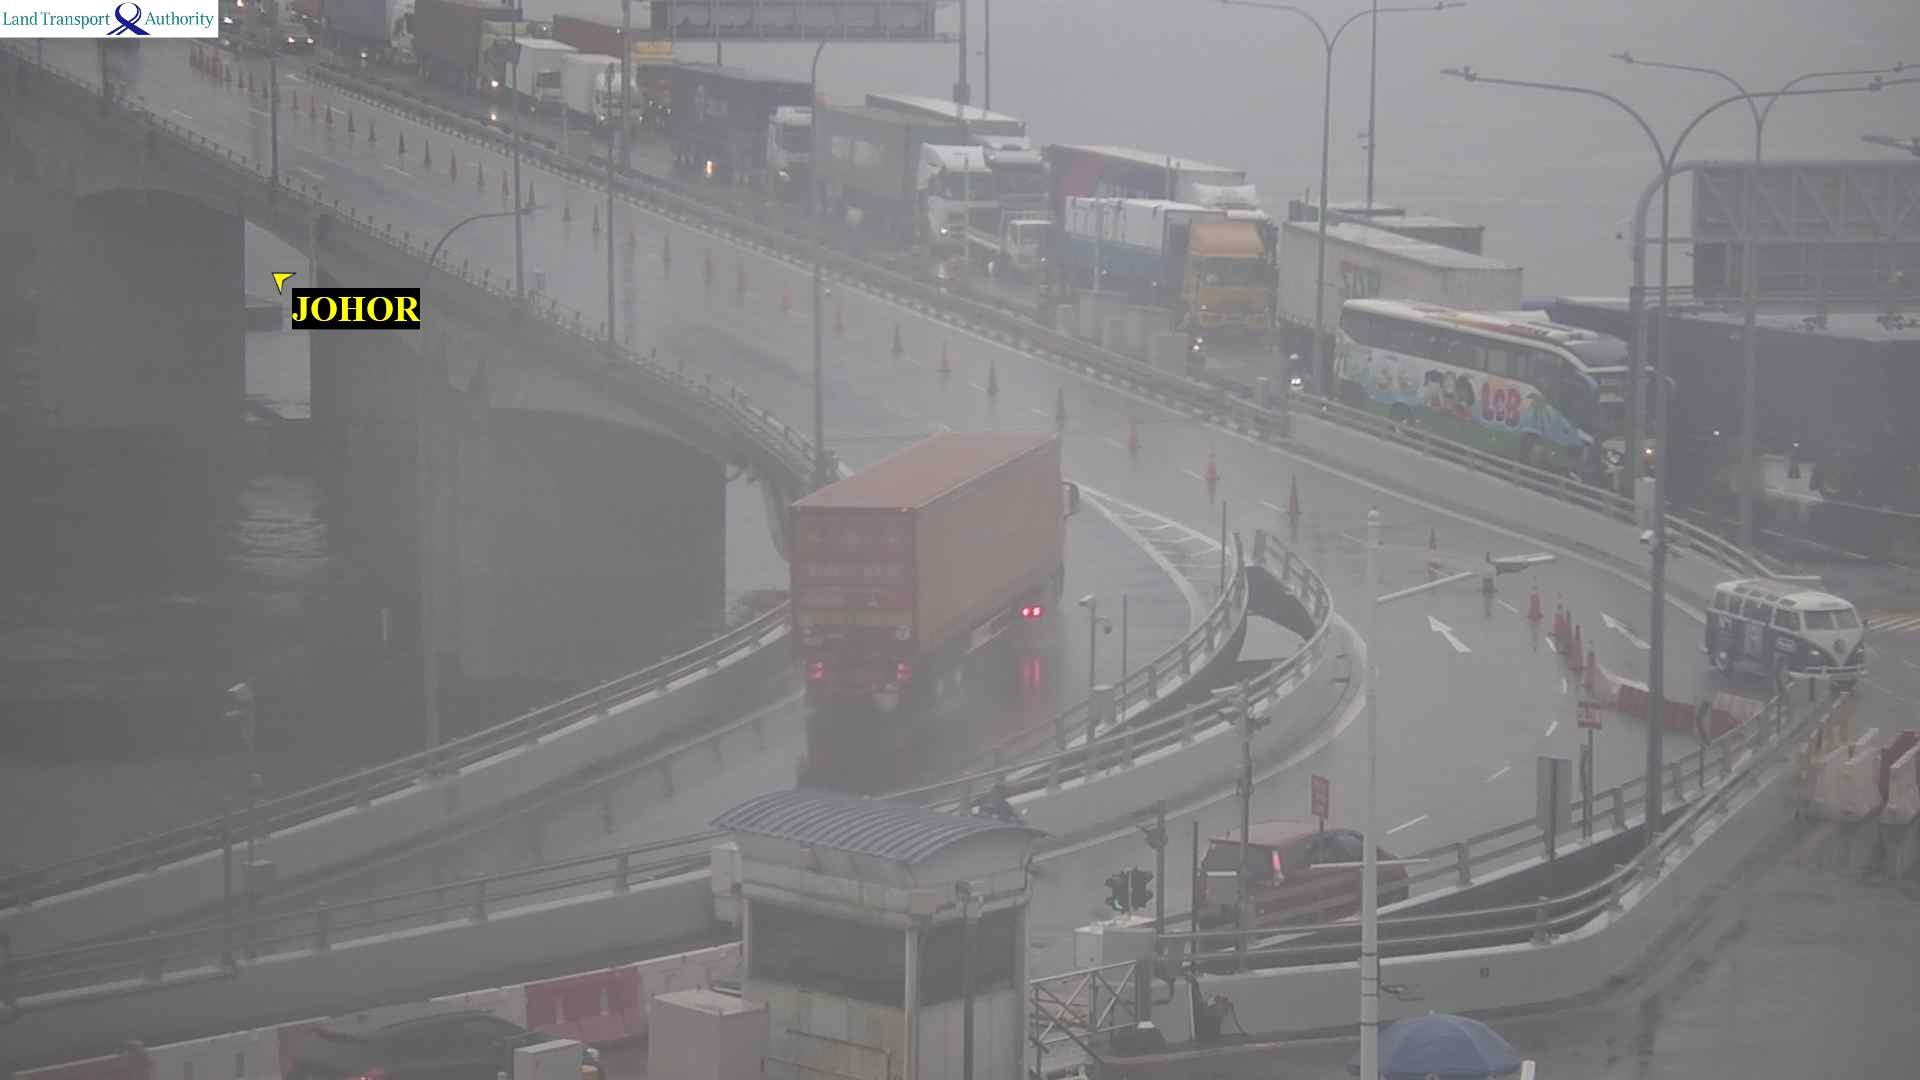vehicle-secondlink-johor: (795, 435, 1067, 707), (1205, 823, 1403, 913)
vehicle-secondlink-singapore: (1322, 301, 1658, 441), (1283, 221, 1517, 345), (869, 97, 1041, 264), (507, 52, 823, 129), (1043, 201, 1275, 302), (829, 110, 989, 232), (1718, 578, 1867, 687), (1062, 144, 1281, 210), (554, 16, 672, 122), (416, 1, 527, 89), (322, 4, 417, 64)
